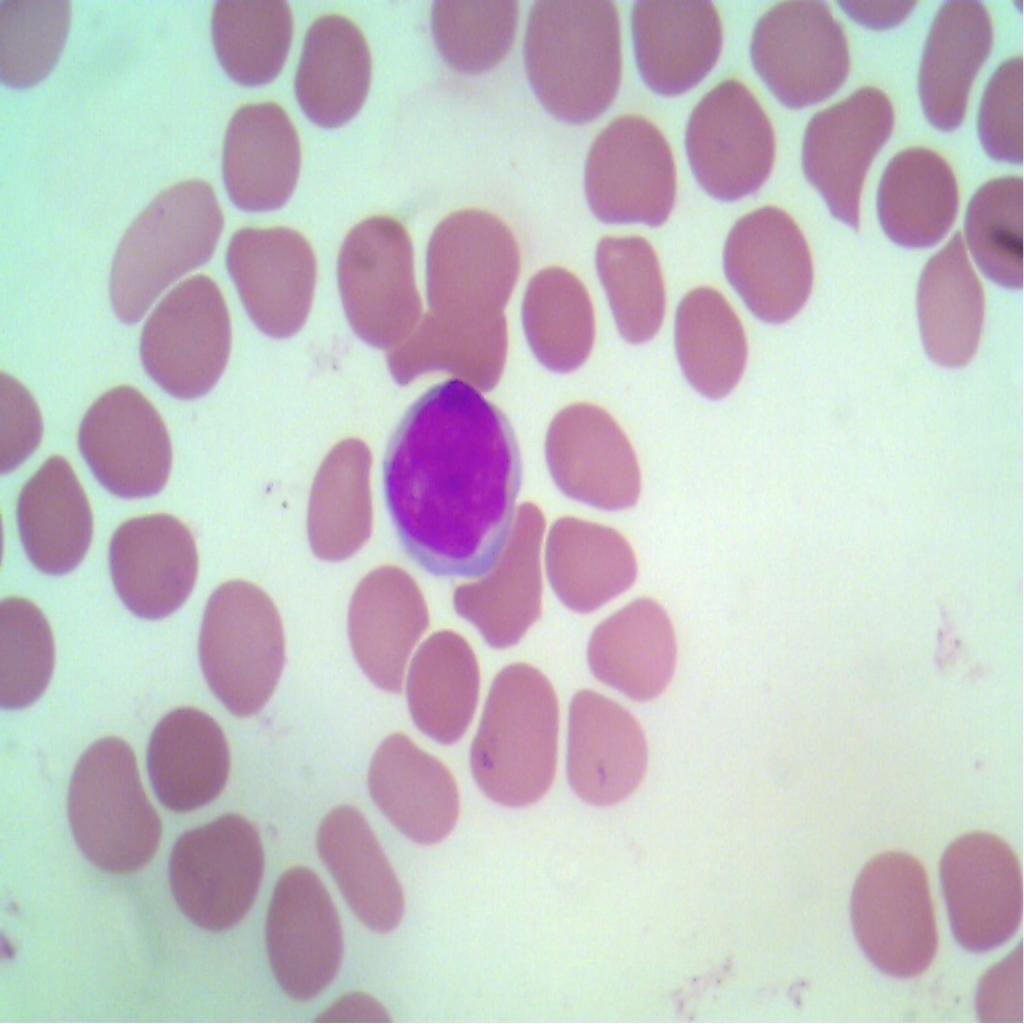Eritrosit: (96, 169, 228, 321), (54, 725, 166, 882), (798, 72, 896, 234), (311, 795, 413, 947), (715, 188, 822, 330), (162, 802, 268, 944), (466, 654, 560, 814), (99, 509, 215, 638), (451, 495, 549, 647), (209, 79, 308, 222), (66, 378, 176, 506), (539, 392, 654, 514), (135, 260, 233, 402), (366, 718, 462, 862), (199, 567, 288, 719), (522, 0, 626, 130), (416, 194, 518, 325), (223, 214, 322, 348), (678, 74, 780, 204), (906, 0, 1002, 138), (346, 555, 434, 702), (576, 104, 678, 230), (260, 855, 346, 1004), (334, 210, 426, 348), (391, 294, 514, 397), (750, 0, 866, 109), (851, 844, 951, 970), (581, 589, 688, 701), (561, 678, 653, 804), (942, 820, 1023, 961), (300, 424, 378, 570), (148, 700, 238, 826), (511, 248, 595, 382), (664, 282, 756, 402), (292, 8, 378, 134), (14, 454, 96, 584), (538, 508, 644, 608), (621, 0, 730, 97), (408, 619, 486, 752), (909, 228, 978, 376), (593, 231, 675, 348), (203, 0, 292, 103), (876, 147, 961, 249)
Limfoblast: (375, 372, 522, 582)
